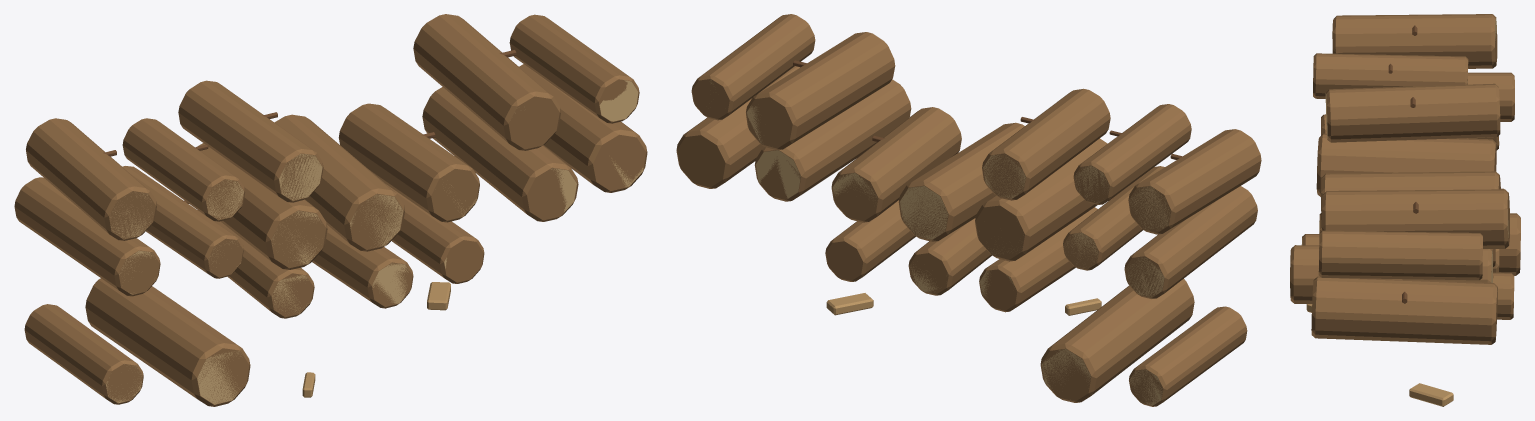
Rendered from runtime.glb.
3 renders of one model, left to right at view 1: azimuth 30°, elevation 25°; view 2: azimuth 150°, elevation 25°; view 3: azimuth 270°, elevation 25°, orthographic. The views are drawn at different scales.
Visible parts, largest first — view 1: falkenwacht-woodpile-v04_nocol; view 2: falkenwacht-woodpile-v04_nocol; view 3: falkenwacht-woodpile-v04_nocol.
Boxes of the visible parts, bbox=[...] form: falkenwacht-woodpile-v04_nocol: bbox=[14, 14, 647, 406]; falkenwacht-woodpile-v04_nocol: bbox=[676, 14, 1261, 406]; falkenwacht-woodpile-v04_nocol: bbox=[1290, 14, 1520, 406].
Bounding box in the file's own units: 2.9 × 1.27 × 1.18.
